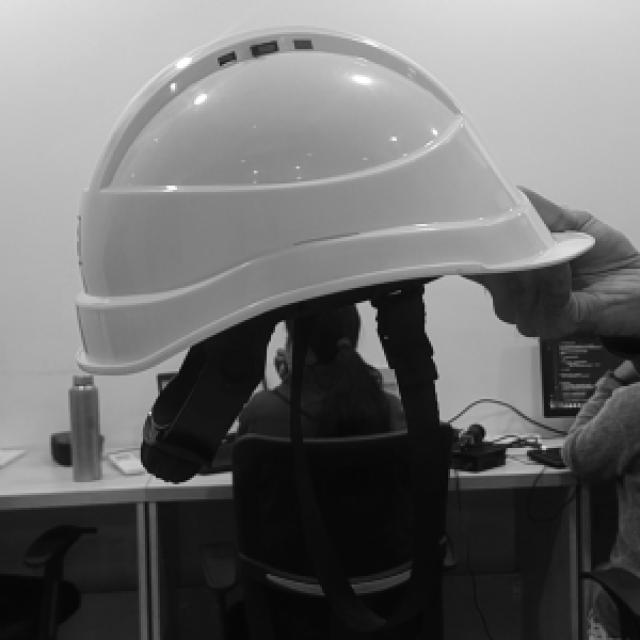safety_helmet: (77, 26, 595, 376)
